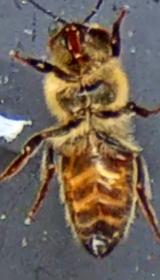varroa_mite: (106, 135, 142, 176)
